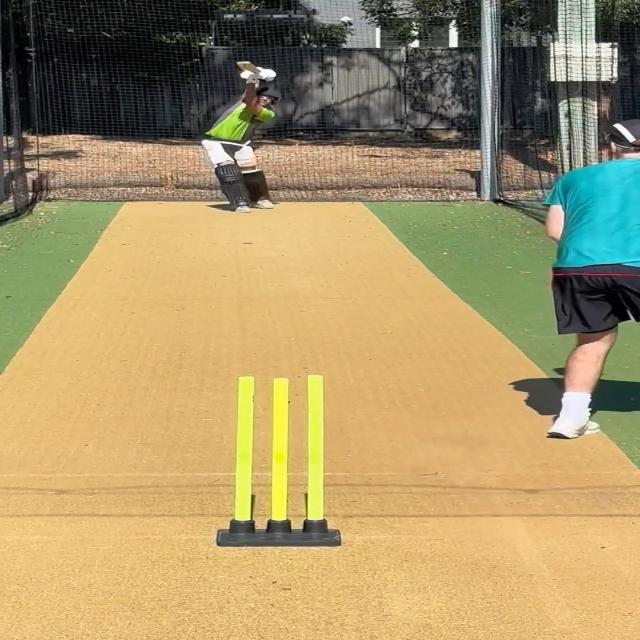stump: (218, 372, 344, 548)
